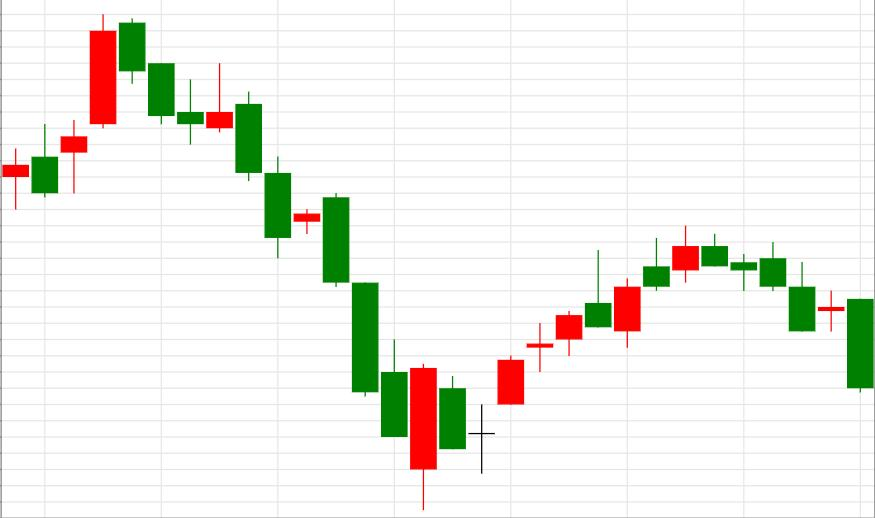shooting_star_fall: (468, 251, 612, 473)
